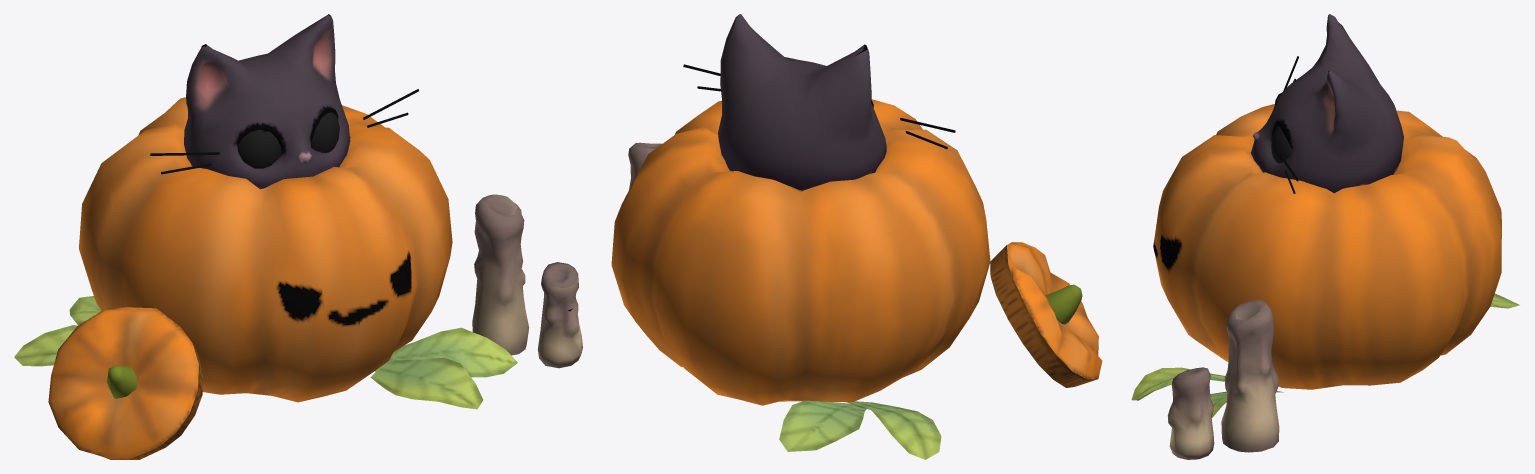
File: spooky-pumpkin-cat.glb
3 renders of one model, left to right at view 1: azimuth 30°, elevation 25°; view 2: azimuth 150°, elevation 25°; view 3: azimuth 270°, elevation 25°, orthographic. The views are drawn at different scales.
Visible parts, largest first — view 1: eyes_interior_Eyes_Interior_0; view 2: eyes_interior_Eyes_Interior_0; view 3: eyes_interior_Eyes_Interior_0.
Part boxes in pixels (box(x1,y1,x2,y2)): eyes_interior_Eyes_Interior_0: box(14, 14, 582, 459); eyes_interior_Eyes_Interior_0: box(611, 14, 1102, 459); eyes_interior_Eyes_Interior_0: box(1131, 14, 1519, 459).
Bounding box in the file's own units: 203 × 135 × 150.
1 material, 1 textured.
